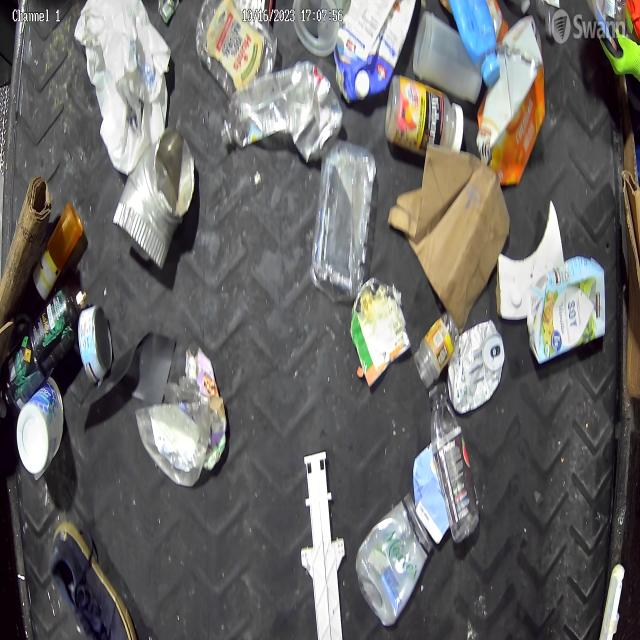can: (448, 317, 504, 406), (77, 302, 116, 388)
plastic_bottle: (224, 62, 318, 146)
